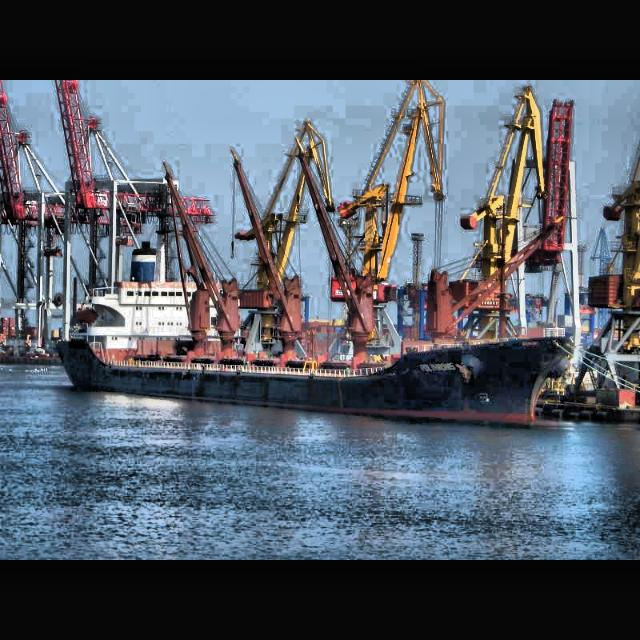bulk_carrier: (52, 162, 576, 430)
